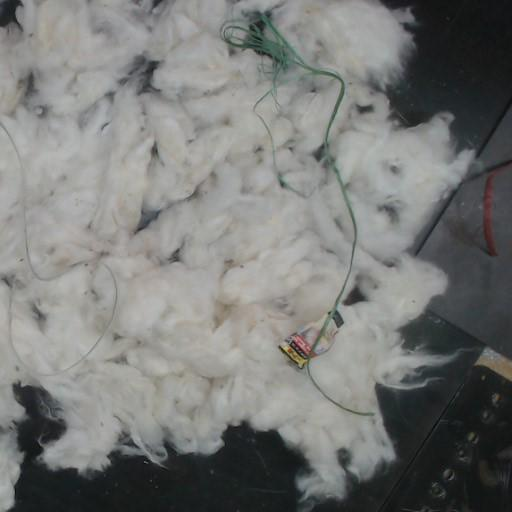conveyor belt: (314, 0, 511, 511), (14, 387, 303, 511)
cotton: (0, 0, 475, 511)
thread: (221, 14, 371, 415), (296, 70, 374, 415), (0, 118, 94, 283), (8, 263, 121, 378), (253, 80, 318, 198), (483, 162, 511, 256), (221, 21, 240, 46)
